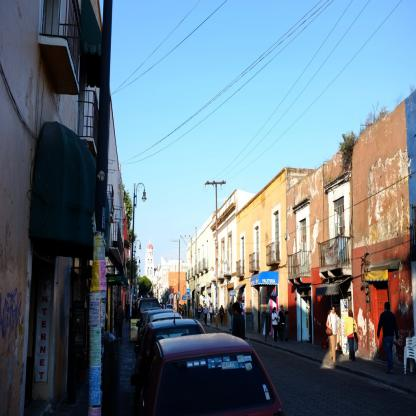Car: (130, 294, 285, 416)
